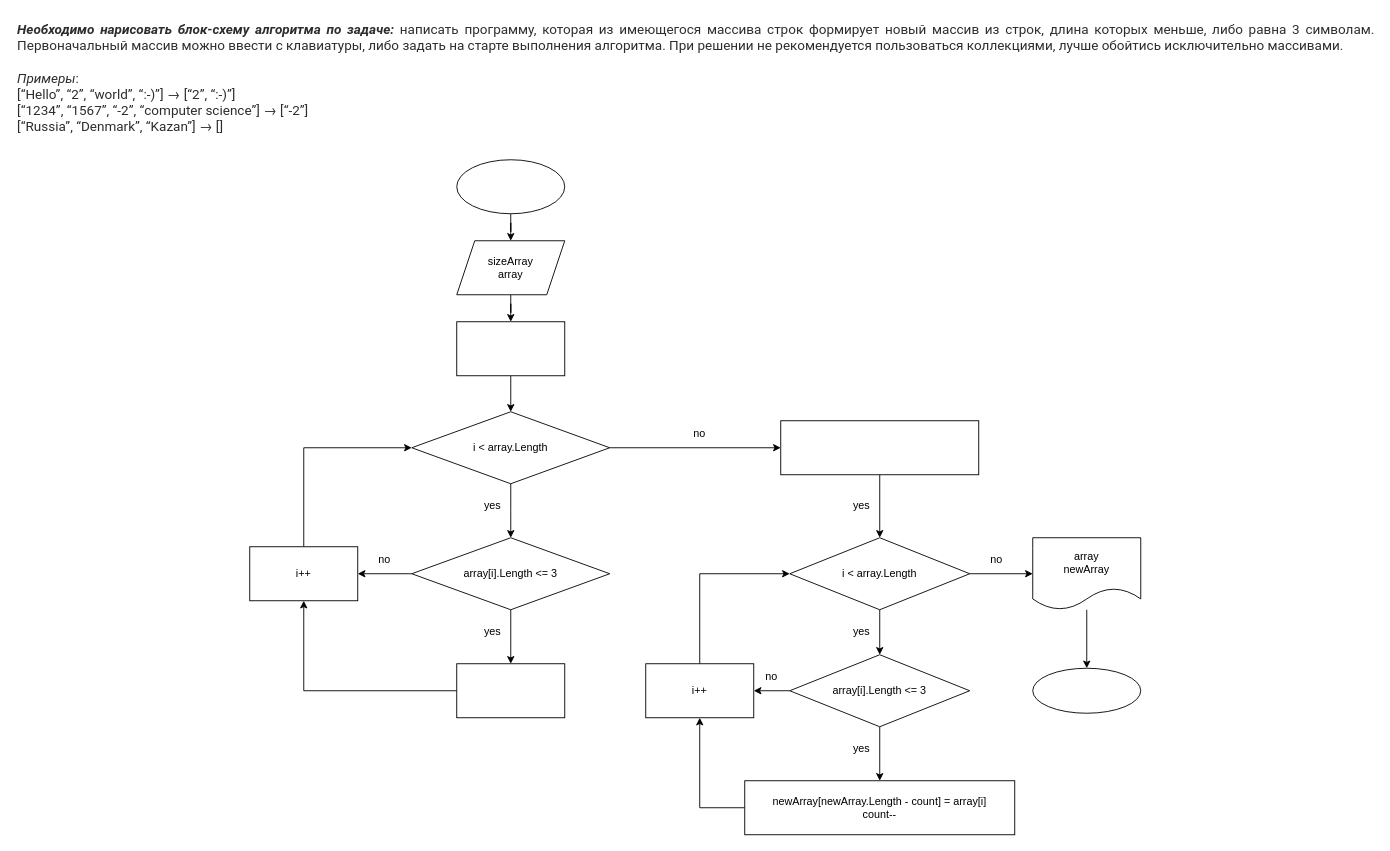
Some shapes in this 1390 by 851 pixel diagram are drawn without their labels. The shapes that lost their labels are listed below. From the top down, each one's centre as x and y in pixels, then its label:
the point at 510,186: start
the point at 510,348: count = 0 i = 0
the point at 879,447: string[] newArray = new string[count] i = 0
the point at 510,690: count++
the point at 1086,690: end
